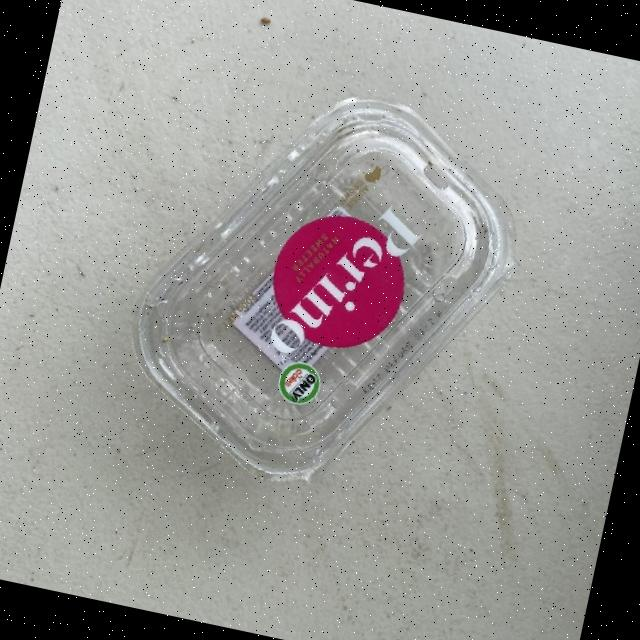plastic: (108, 56, 544, 521)
